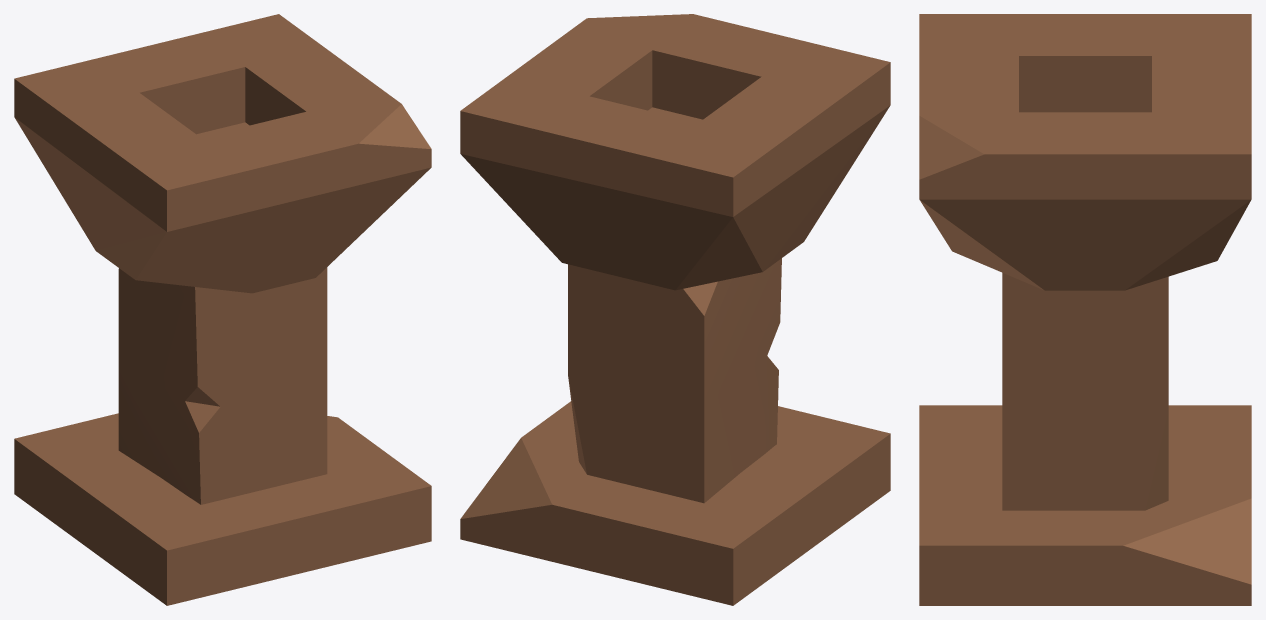
Rendered from Monument_001.FBX.
3 renders of one model, left to right at view 1: azimuth 30°, elevation 25°; view 2: azimuth 150°, elevation 25°; view 3: azimuth 270°, elevation 25°, orthographic. The views are drawn at different scales.
Parts seen in each view (by area): view 1: Monument_001; view 2: Monument_001; view 3: Monument_001.
Boxes of the visible parts, box(x1,y1,x2,y2) form: Monument_001: box(14, 14, 431, 605); Monument_001: box(460, 14, 890, 605); Monument_001: box(919, 14, 1251, 605).
Size of the model in its own units: 19.69 by 29.53 by 19.69.
